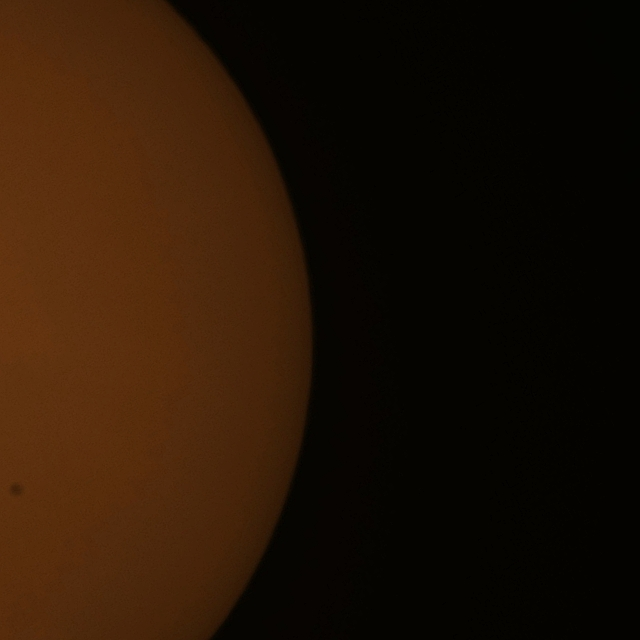sunspot: (8, 482, 26, 499)
